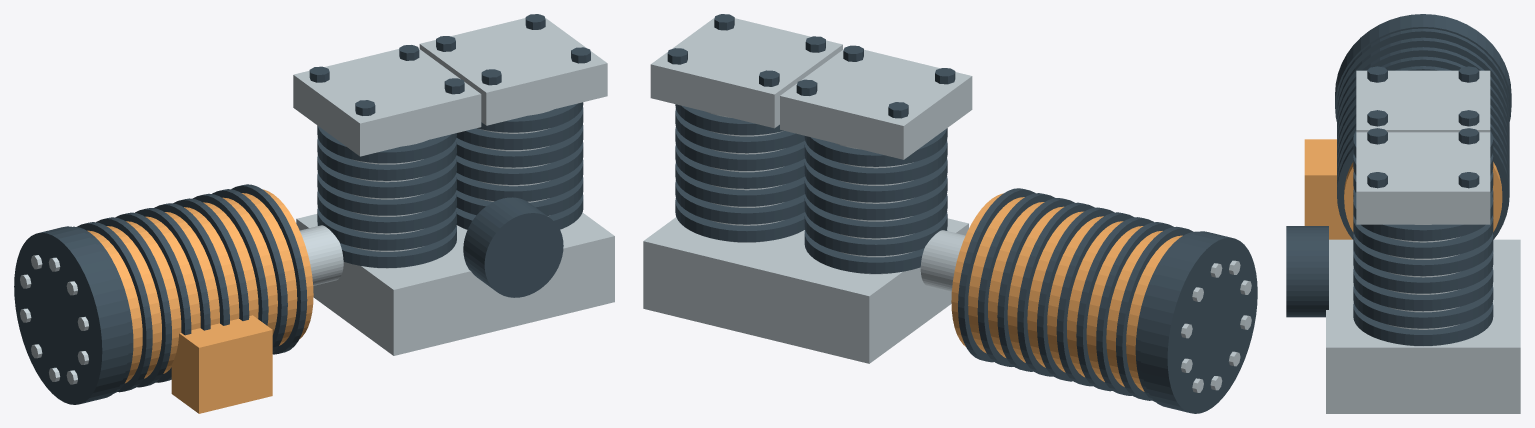
The model's file is motor.glb.
3 views of the same model, side by side, from view 1: azimuth 30°, elevation 25°; view 2: azimuth 150°, elevation 25°; view 3: azimuth 270°, elevation 25° (orthographic). The views are drawn at different scales.
Bounding box in the file's own units: 0.991 × 0.439 × 0.385.
